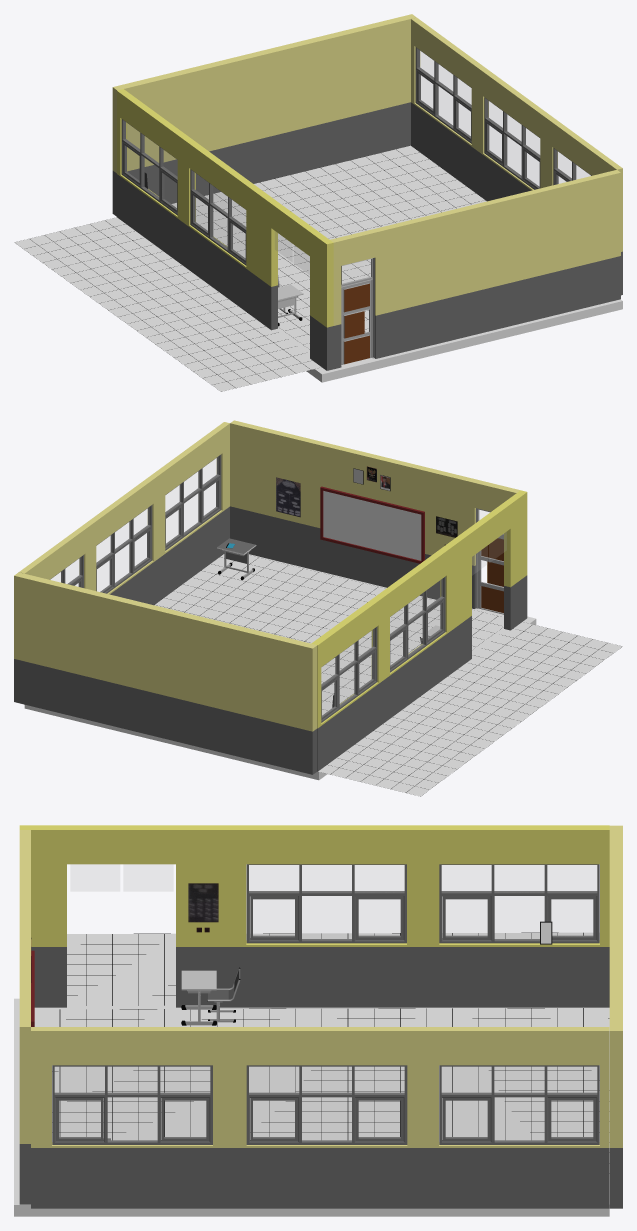
Rendered from ClassroomSet1.fbx.
3 renders of one model, top to bottom at view 1: azimuth 30°, elevation 25°; view 2: azimuth 150°, elevation 25°; view 3: azimuth 270°, elevation 25°, orthographic. The views are drawn at different scales.
Parts seen in each view (by area): view 1: Walls, Floors, GlassR, GlassR.001, BaseFloor, FrameR.001, FrameR, FDoor, FrameFDoor; view 2: Walls, Floors, Whiteboards, GlassR, GlassR.001, FrameR.001, FrameR, BaseFloor, FDoor, Picture.005; view 3: Walls, Floors, GlassR.001, GlassR, FrameR.001, BaseFloor, FrameR, Picture, SurfaceDesk.
Boxes of the visible parts, x1,y1,x2,y2 form: Walls: (112, 14, 622, 370); Floors: (14, 145, 486, 391); GlassR: (124, 122, 309, 274); GlassR.001: (418, 50, 589, 186); BaseFloor: (275, 147, 622, 382); FrameR.001: (415, 47, 591, 189); FrameR: (121, 119, 246, 265); FDoor: (341, 280, 371, 364); FrameFDoor: (341, 257, 374, 366); Walls: (14, 420, 527, 774); Floors: (154, 554, 622, 796); Whiteboards: (320, 486, 424, 563); GlassR: (322, 532, 506, 716); GlassR.001: (51, 458, 217, 591); FrameR.001: (50, 454, 221, 593); FrameR: (321, 576, 445, 722); BaseFloor: (24, 554, 536, 780); FDoor: (478, 536, 503, 614); Picture.005: (276, 477, 300, 517); Walls: (19, 825, 622, 1208); Floors: (34, 932, 609, 1204); GlassR.001: (55, 1067, 596, 1140); GlassR: (71, 865, 596, 939); FrameR.001: (52, 1065, 599, 1144); BaseFloor: (14, 998, 609, 1216); FrameR: (246, 864, 599, 943); Picture: (188, 883, 218, 922); SurfaceDesk: (181, 970, 216, 990).
Bounding box in the file's own units: 3726 × 1194 × 3473.
